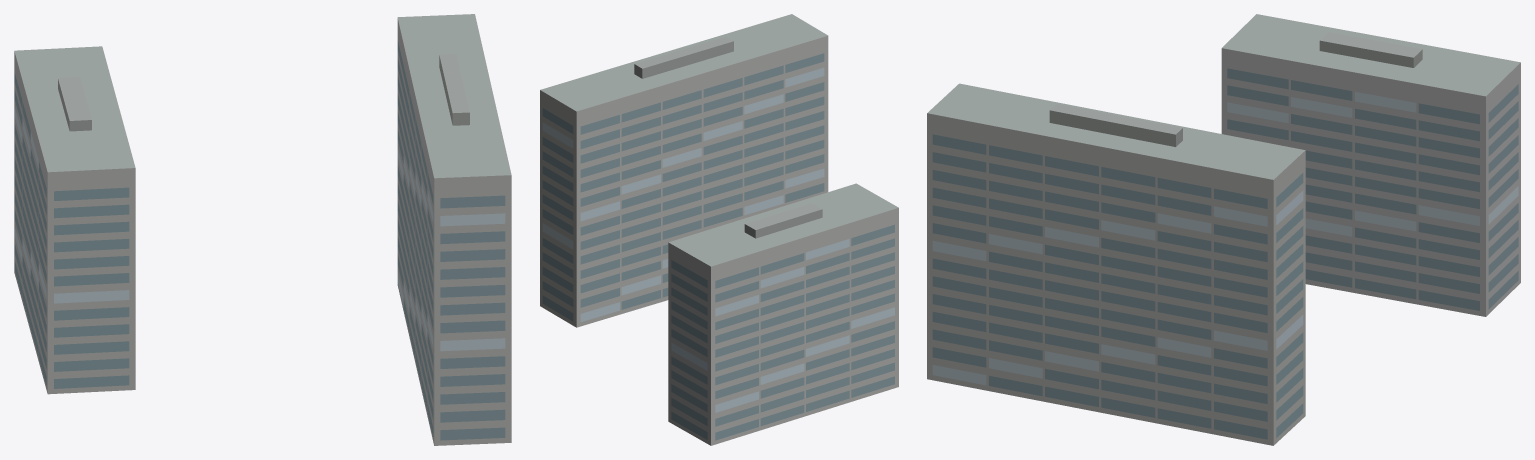
Rendered from apt-a10078102.glb.
3 renders of one model, left to right at view 1: azimuth 30°, elevation 25°; view 2: azimuth 150°, elevation 25°; view 3: azimuth 270°, elevation 25°, orthographic. The views are drawn at different scales.
Visible parts, largest first — view 1: apt-a10078102; view 2: apt-a10078102; view 3: apt-a10078102.
Part boxes in pixels (x1,y1,x2,y2): apt-a10078102: (14, 14, 511, 445); apt-a10078102: (540, 14, 898, 445); apt-a10078102: (927, 14, 1520, 445).
Bounding box in the file's own units: 66.72 × 41 × 79.2.
